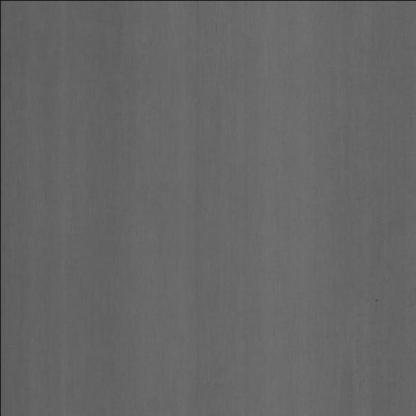inclusion: (373, 295, 380, 306)
